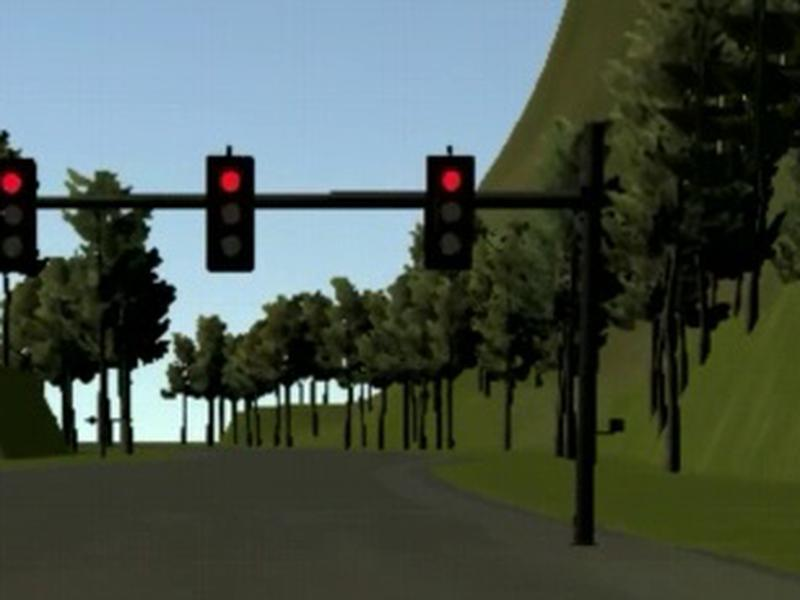Red: (425, 153, 475, 269), (207, 155, 255, 271), (1, 156, 36, 272)
